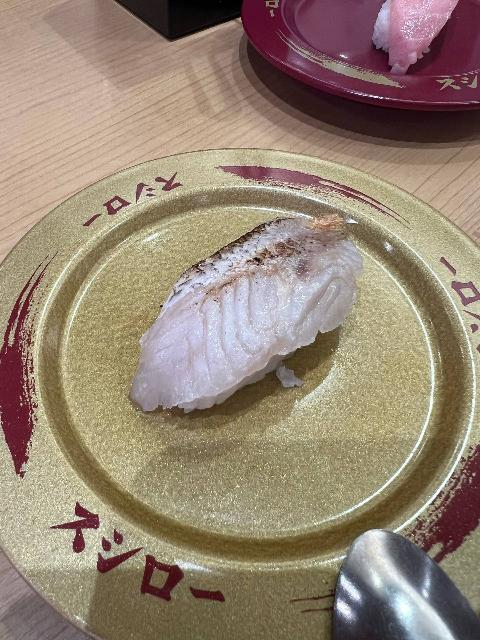jangold: (0, 390, 353, 640), (352, 183, 480, 640), (0, 140, 140, 390), (159, 131, 395, 219)
